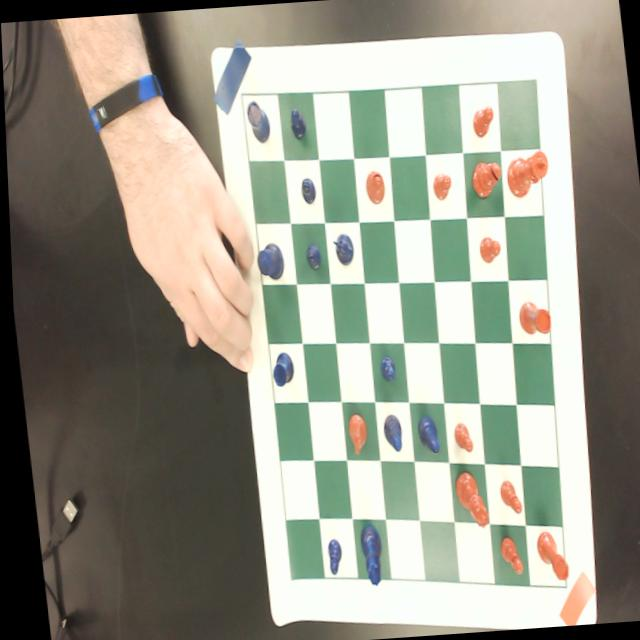B: (410, 412, 435, 453), (376, 411, 399, 452)
K: (251, 240, 281, 280)
N: (328, 230, 352, 267)
P: (320, 537, 337, 574), (287, 105, 305, 138), (297, 175, 315, 204), (301, 241, 318, 270), (374, 355, 392, 382)
Q: (352, 522, 379, 586)
R: (243, 98, 269, 144), (265, 351, 290, 386)
b: (467, 158, 501, 198), (362, 170, 383, 203)
k: (501, 148, 548, 198)
n: (342, 412, 364, 454)
p: (492, 533, 518, 574), (492, 479, 517, 514), (469, 103, 494, 138), (428, 168, 451, 202), (474, 235, 499, 264), (447, 420, 468, 452)
q: (448, 468, 484, 528)
r: (528, 528, 563, 582), (514, 300, 547, 336)
